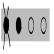correct: (16, 14, 22, 34)
not correct: (2, 1, 11, 50)
